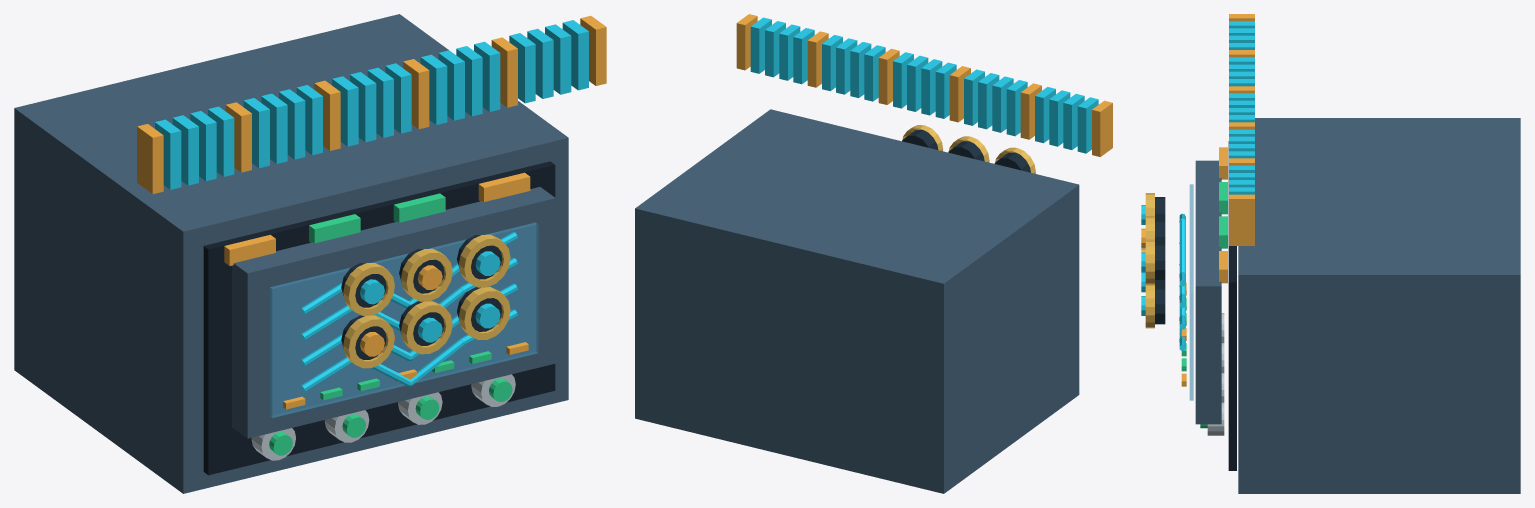
Rendered from 22_L81_BackgroundMemoryScrubber.fbx.
3 renders of one model, left to right at view 1: azimuth 30°, elevation 25°; view 2: azimuth 150°, elevation 25°; view 3: azimuth 270°, elevation 25°, orthographic. The views are drawn at different scales.
Visible parts, largest first — view 1: BackgroundMemoryScrubber; view 2: BackgroundMemoryScrubber; view 3: BackgroundMemoryScrubber.
Boxes of the visible parts, x1,y1,x2,y2 form: BackgroundMemoryScrubber: (14,14,606,493); BackgroundMemoryScrubber: (635,14,1112,493); BackgroundMemoryScrubber: (1141,14,1520,493).
Size of the model in its own units: 118 by 91.5 by 102.
